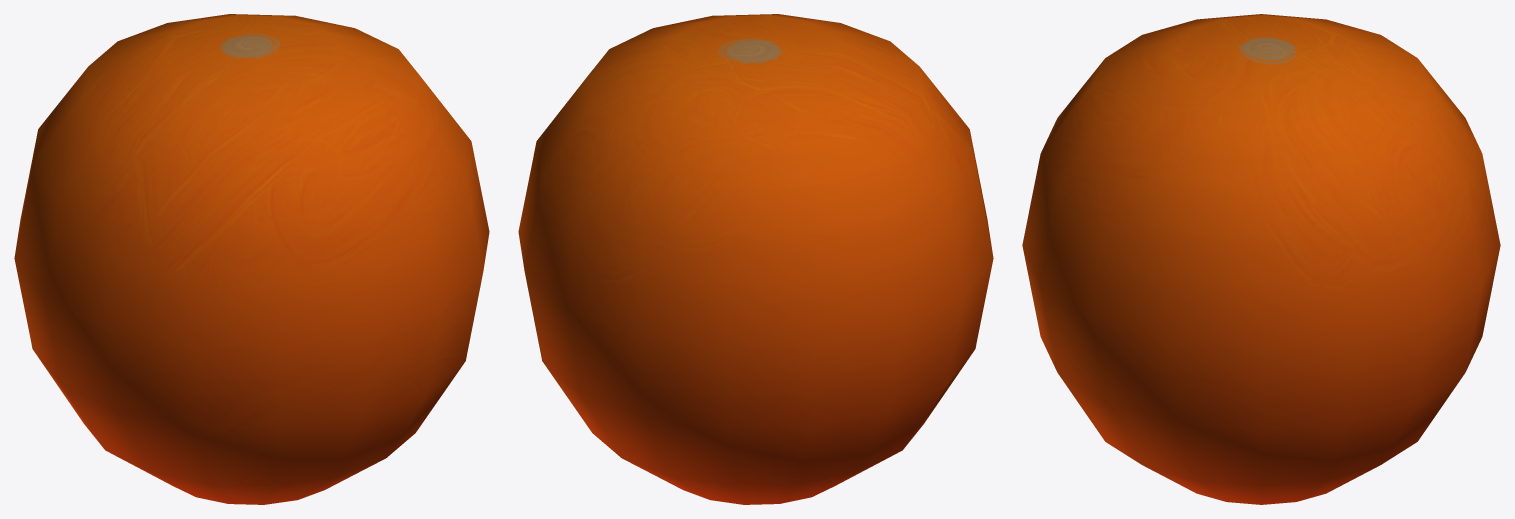
Rendered from Tomato.gltf.
3 views of the same model, side by side, from view 1: azimuth 30°, elevation 25°; view 2: azimuth 150°, elevation 25°; view 3: azimuth 270°, elevation 25° (orthographic).
Parts seen in each view (by area): view 1: tomato1; view 2: tomato1; view 3: tomato1.
Boxes of the visible parts, box(x1,y1,x2,y2) form: tomato1: box(14, 14, 489, 504); tomato1: box(518, 14, 993, 504); tomato1: box(1022, 14, 1500, 504).
Bounding box in the file's own units: 0.0548 × 0.0553 × 0.0548.
Materials: 1 (1 with a texture image).
